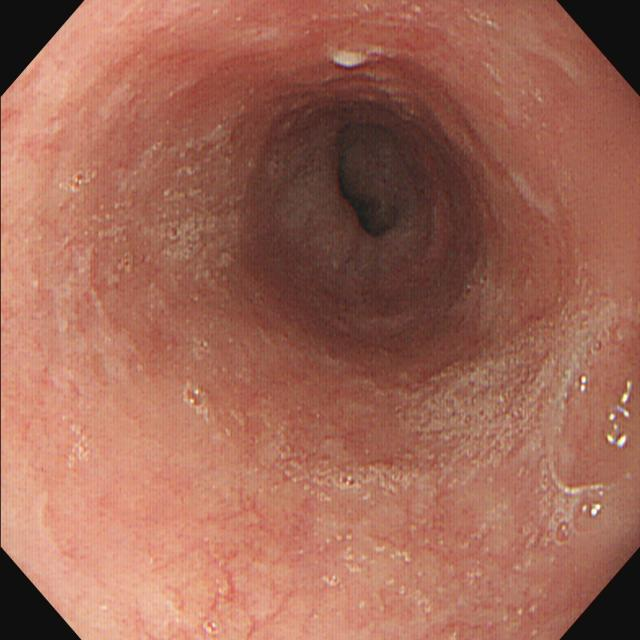E: (331, 124, 413, 242)
J: (327, 49, 387, 70)
T: (546, 295, 640, 547), (396, 315, 548, 460), (274, 447, 439, 499), (178, 379, 216, 428)
